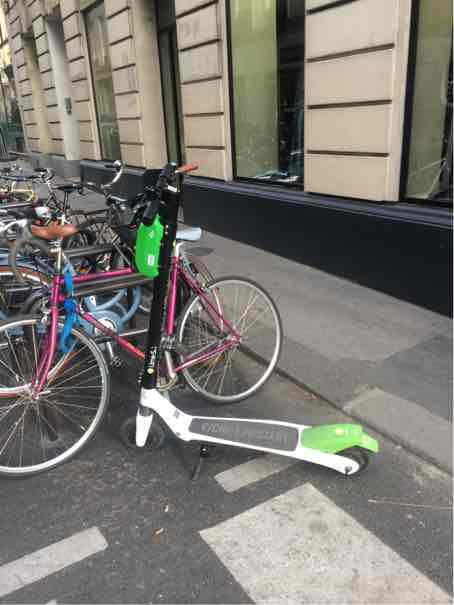scooter: (92, 152, 386, 487)
